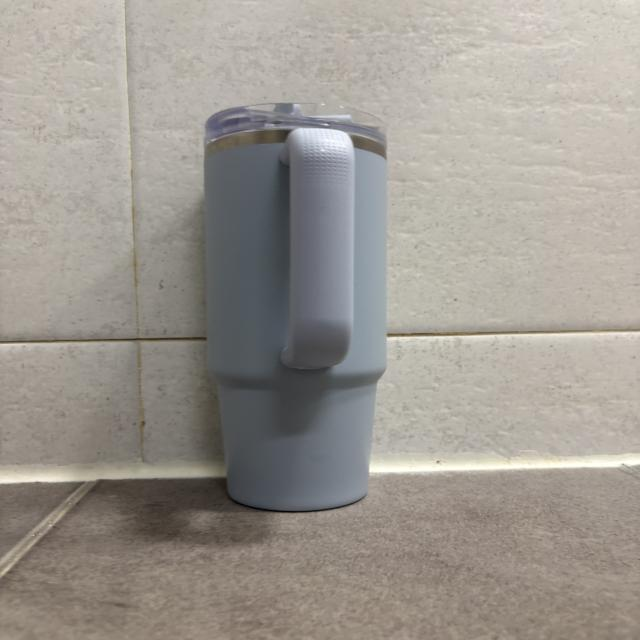waterbottle: (203, 100, 386, 513)
